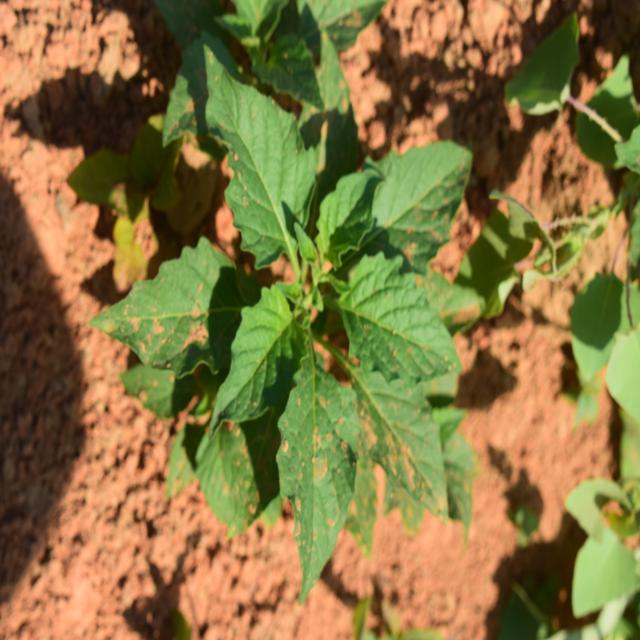Black_nightshade: (173, 93, 482, 550)
